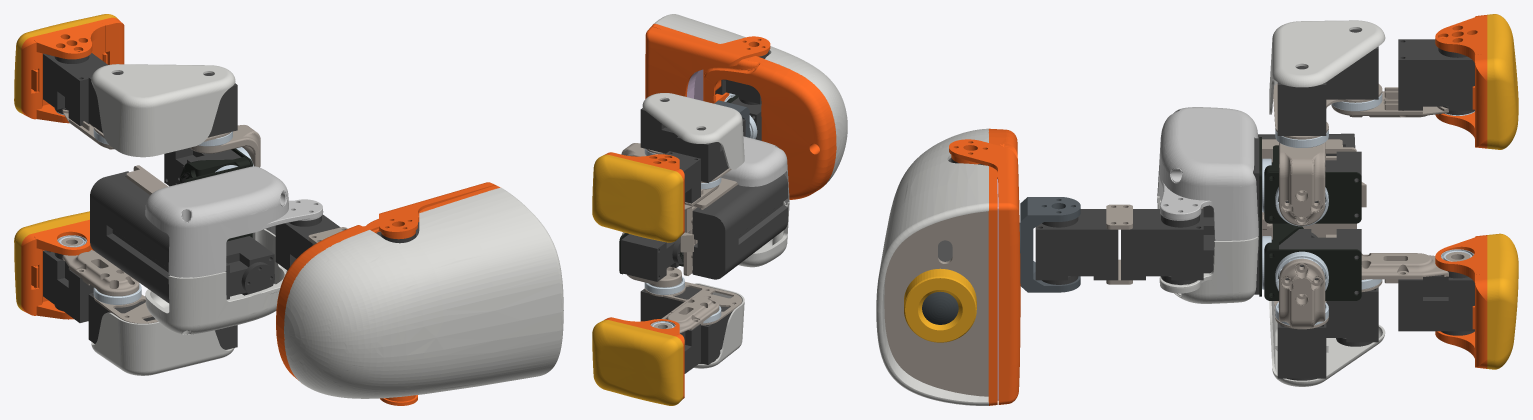
The model's file is microduck.glb.
3 renders of one model, left to right at view 1: azimuth 30°, elevation 25°; view 2: azimuth 150°, elevation 25°; view 3: azimuth 270°, elevation 25°, orthographic. The views are drawn at different scales.
Visible parts, largest first — view 1: geom_45, geom_09, geom_17, geom_07, geom_01, geom_65, geom_24, geom_29, geom_08, geom_27, geom_67, geom_52 (+15 smaller); view 2: geom_52, geom_07, geom_25, geom_71, geom_51, geom_17, geom_45, geom_57, geom_09, geom_68, geom_18, geom_05 (+19 smaller); view 3: geom_41, geom_09, geom_45, geom_51, geom_17, geom_31, geom_32, geom_24, geom_67, geom_71, geom_25, geom_01 (+26 smaller).
Part boxes in pixels (box(x1,y1,x2,y2)): geom_45: box(284, 187, 563, 398); geom_09: box(145, 166, 323, 277); geom_17: box(91, 64, 235, 157); geom_07: box(90, 171, 169, 303); geom_01: box(145, 229, 287, 334); geom_65: box(91, 312, 234, 375); geom_24: box(43, 53, 107, 125); geom_29: box(34, 23, 105, 123); geom_08: box(225, 236, 274, 299); geom_27: box(21, 17, 124, 119); geom_67: box(43, 250, 101, 322); geom_52: box(276, 185, 500, 380); geom_52: box(651, 23, 836, 199); geom_07: box(692, 174, 787, 279); geom_25: box(592, 154, 683, 242); geom_71: box(592, 320, 683, 405); geom_51: box(645, 27, 770, 98); geom_17: box(642, 93, 744, 169); geom_45: box(654, 14, 847, 184); geom_57: box(621, 234, 683, 281); geom_09: box(721, 136, 789, 205); geom_68: box(653, 296, 719, 333); geom_18: box(676, 128, 728, 182); geom_05: box(680, 178, 737, 275); geom_41: box(884, 211, 988, 396); geom_09: box(1157, 107, 1258, 240); geom_45: box(876, 128, 988, 405); geom_51: box(949, 139, 1020, 404); geom_17: box(1269, 20, 1385, 114); geom_31: box(1121, 209, 1203, 284); geom_32: box(1035, 209, 1118, 284); geom_24: box(1398, 39, 1474, 115); geom_67: box(1398, 271, 1474, 335); geom_71: box(1487, 233, 1518, 369); geom_25: box(1487, 14, 1518, 149); geom_01: box(1157, 192, 1258, 303).
Size of the model in its own units: 0.1441 by 0.141 by 0.264.
